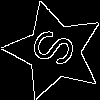S: (29, 26, 86, 74)
